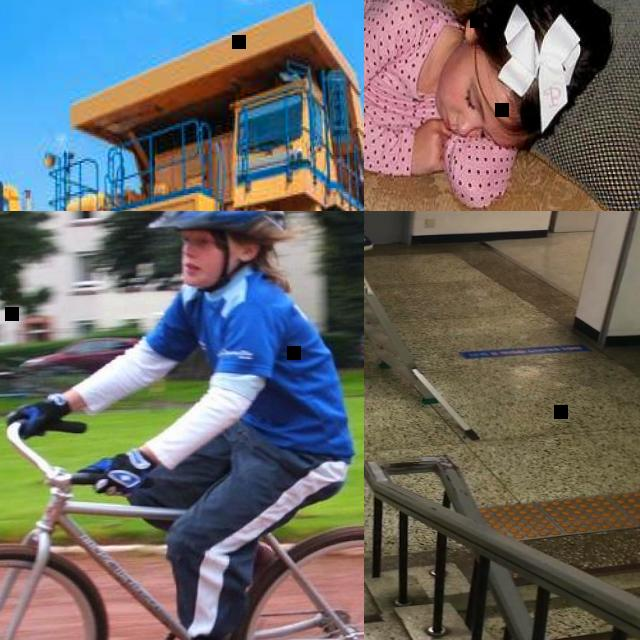Hardhat: (149, 211, 300, 241)
NO-Hardhat: (473, 0, 582, 144)
NO-Mask: (184, 256, 250, 286), (434, 71, 461, 133)
NO-Safety Vest: (147, 280, 356, 463), (364, 0, 439, 131)
Person: (0, 211, 354, 640), (364, 0, 611, 210)
vehicle: (48, 0, 364, 211)
